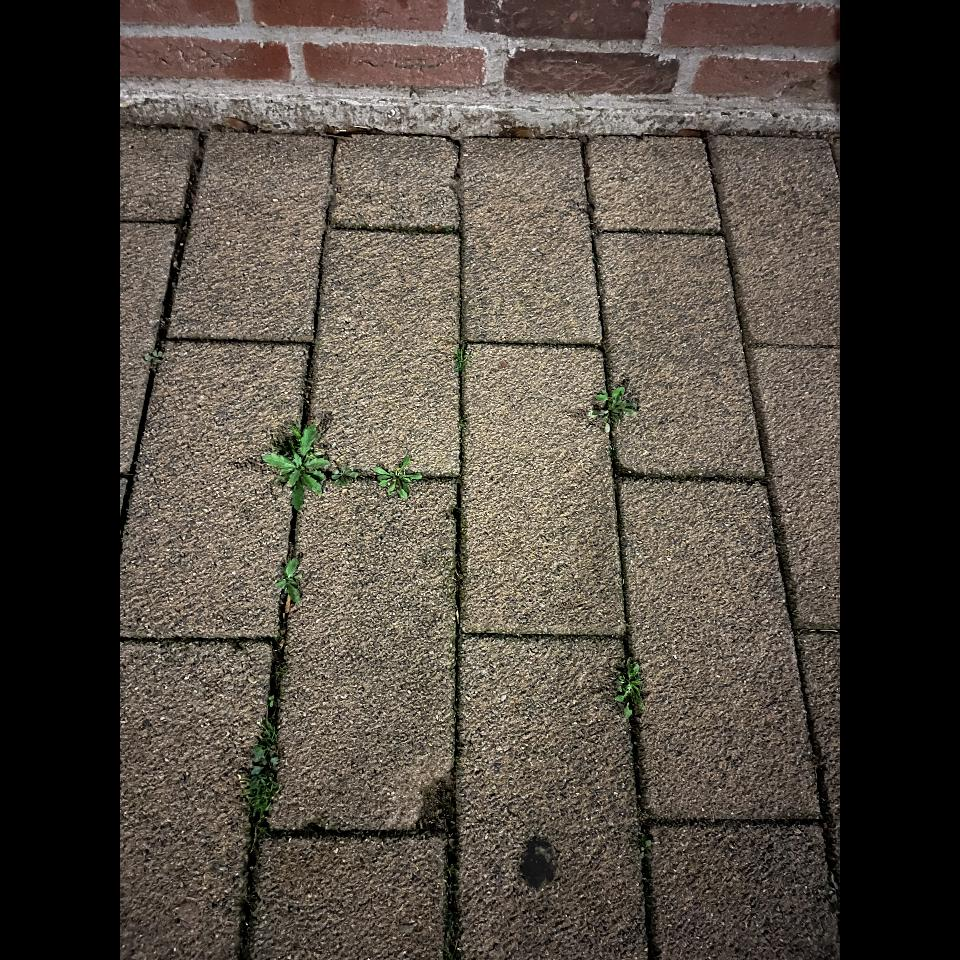weed: (241, 688, 291, 852), (268, 417, 338, 500), (271, 538, 345, 610), (369, 449, 431, 506), (624, 652, 654, 712), (599, 375, 631, 419)
